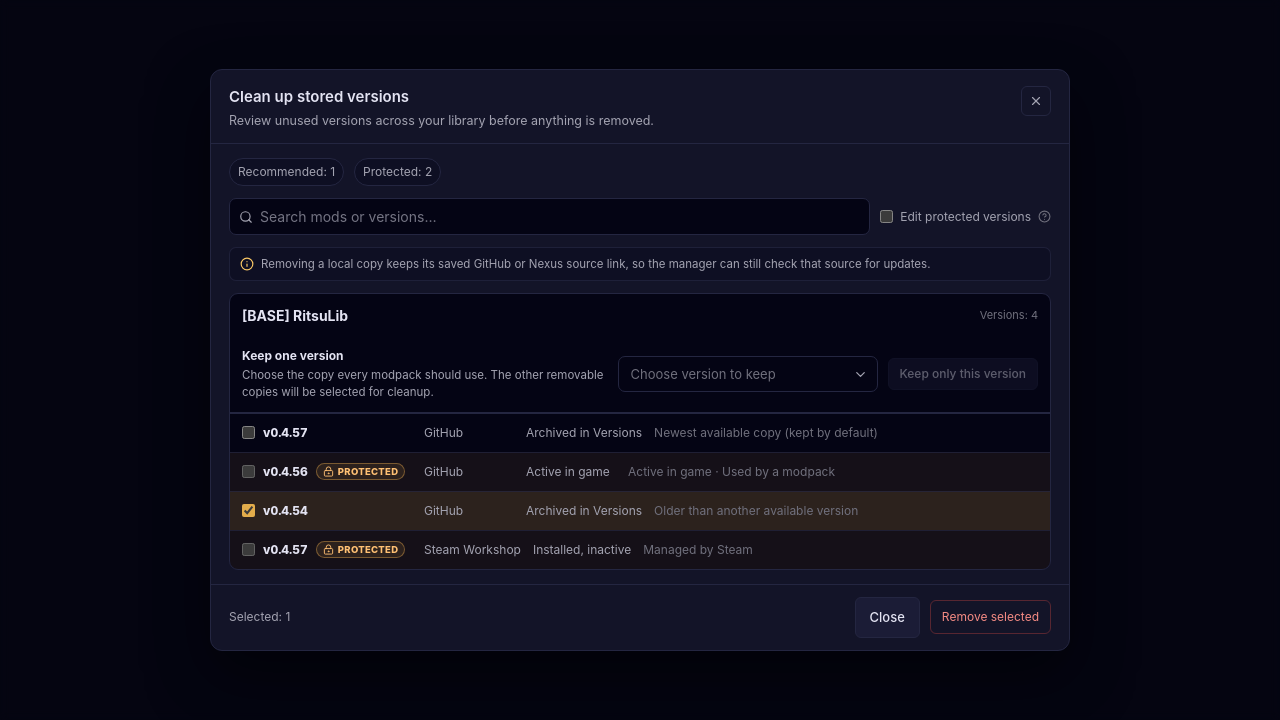
Test case: <VersionCleanupModal> › stages every removable family copy against one retained version
The image size is (1280, 720).
Expected: the text "[BASE] RitsuLib" is shown, [242,305,348,326]
Click the dropdown named "Version to keep for [BASE] RitsuLib" at coordinates (748, 374), box [618,356,878,392]
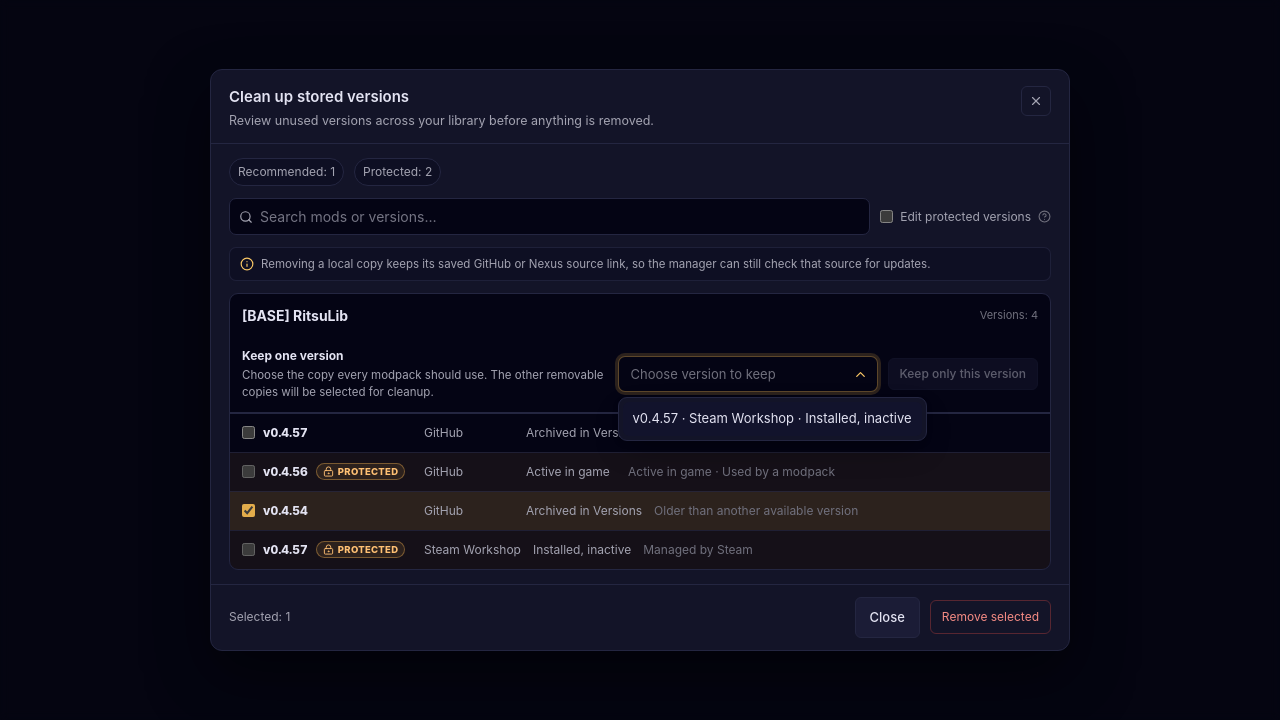
Click the option "v0.4.57 · Steam Workshop · Installed, inactive" at coordinates (772, 419), box [622,402,922,436]
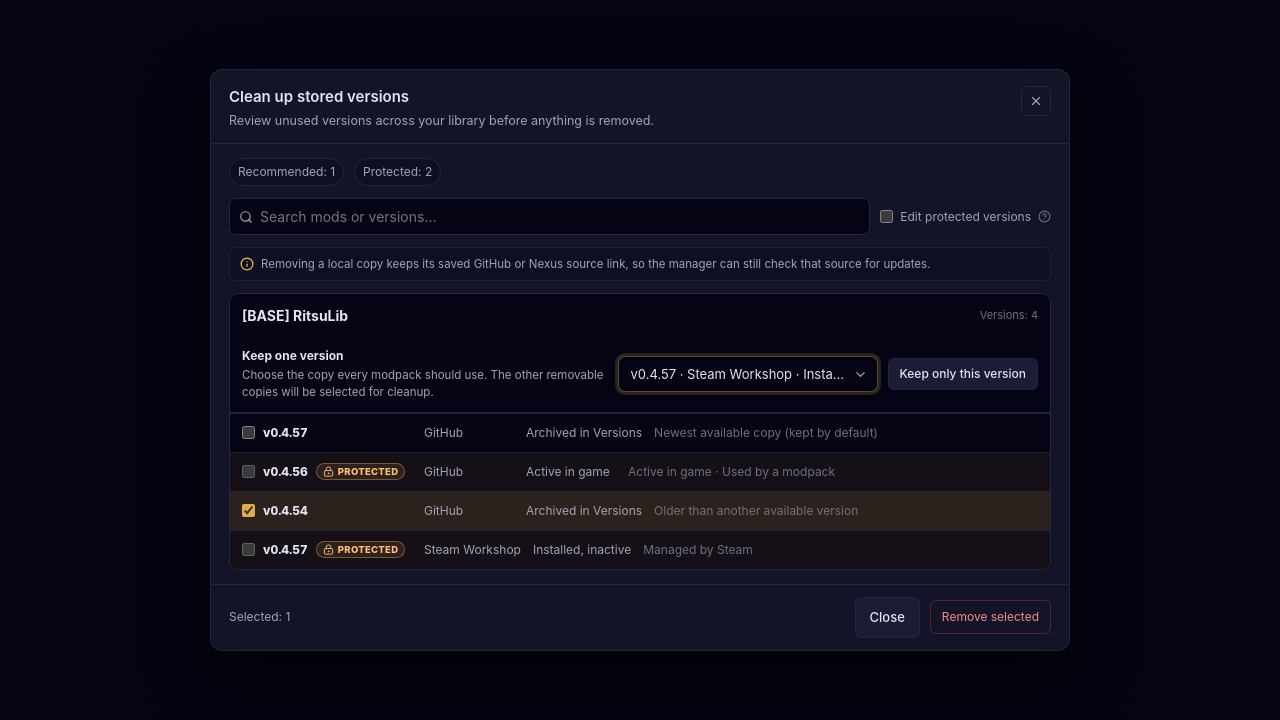
Click the button "Keep only this version" at coordinates (963, 374), box [888,358,1038,390]
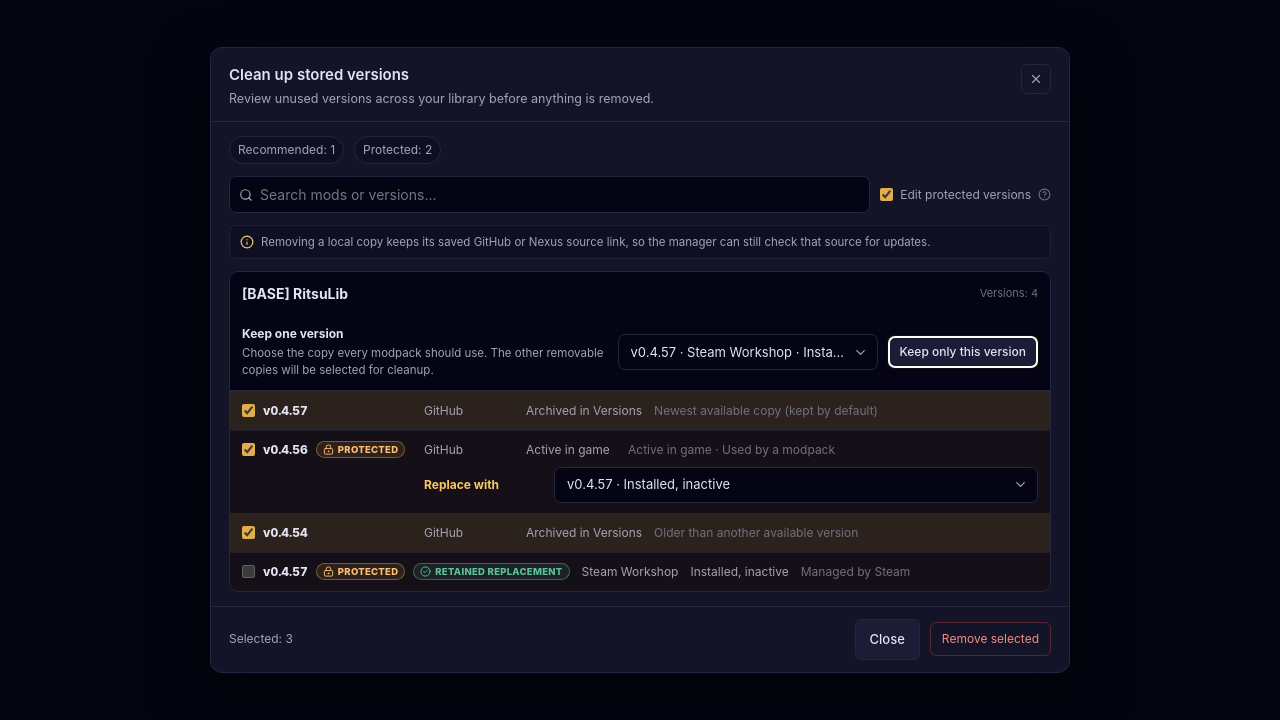
Expected: the checkbox labelled "Edit protected versions" is checked, [880,188,893,201]
Expected: the checkbox named "RitsuLib v0.4.57" is checked, [242,404,255,417]
Expected: the checkbox named "RitsuLib v0.4.56" is checked, [242,443,255,456]
